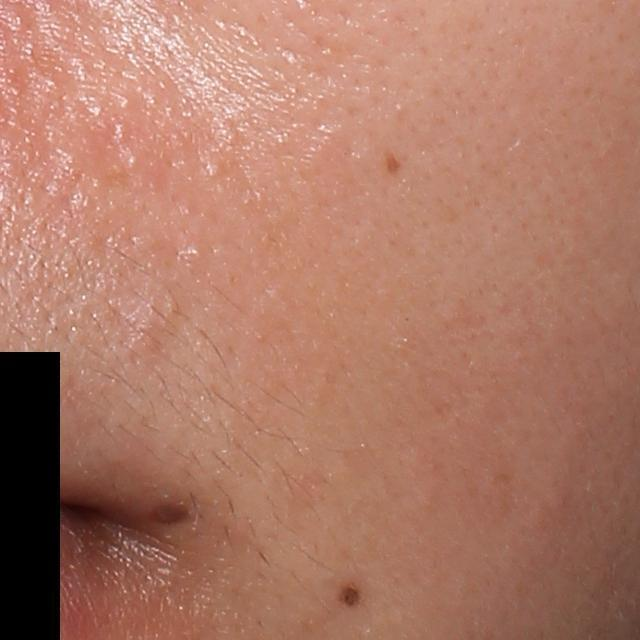comedo: (203, 159, 225, 181)
nevus: (376, 149, 401, 183), (341, 583, 368, 614)
